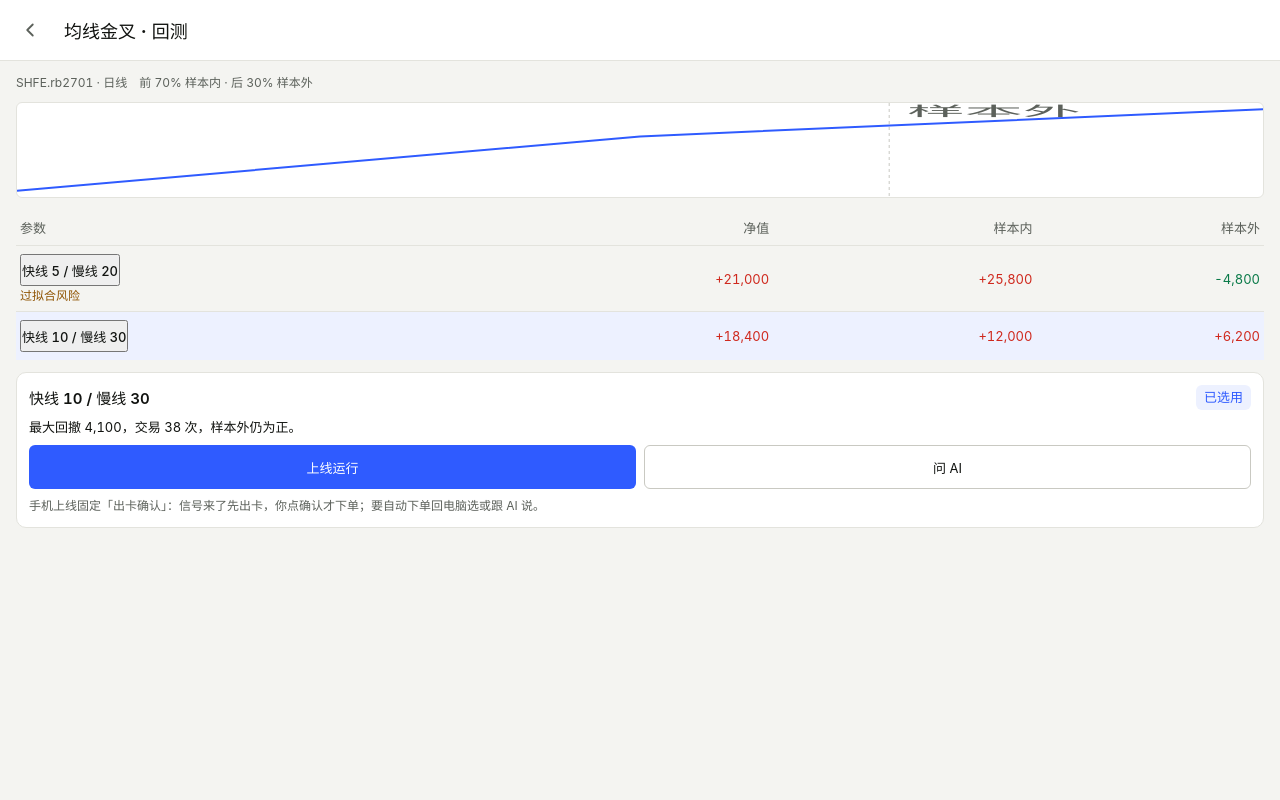
Test case: AI 模拟执行已停止时不上线，写明原因
Step 1. Click the button "上线运行" → click(332, 467), box 29,445 -> 636,489
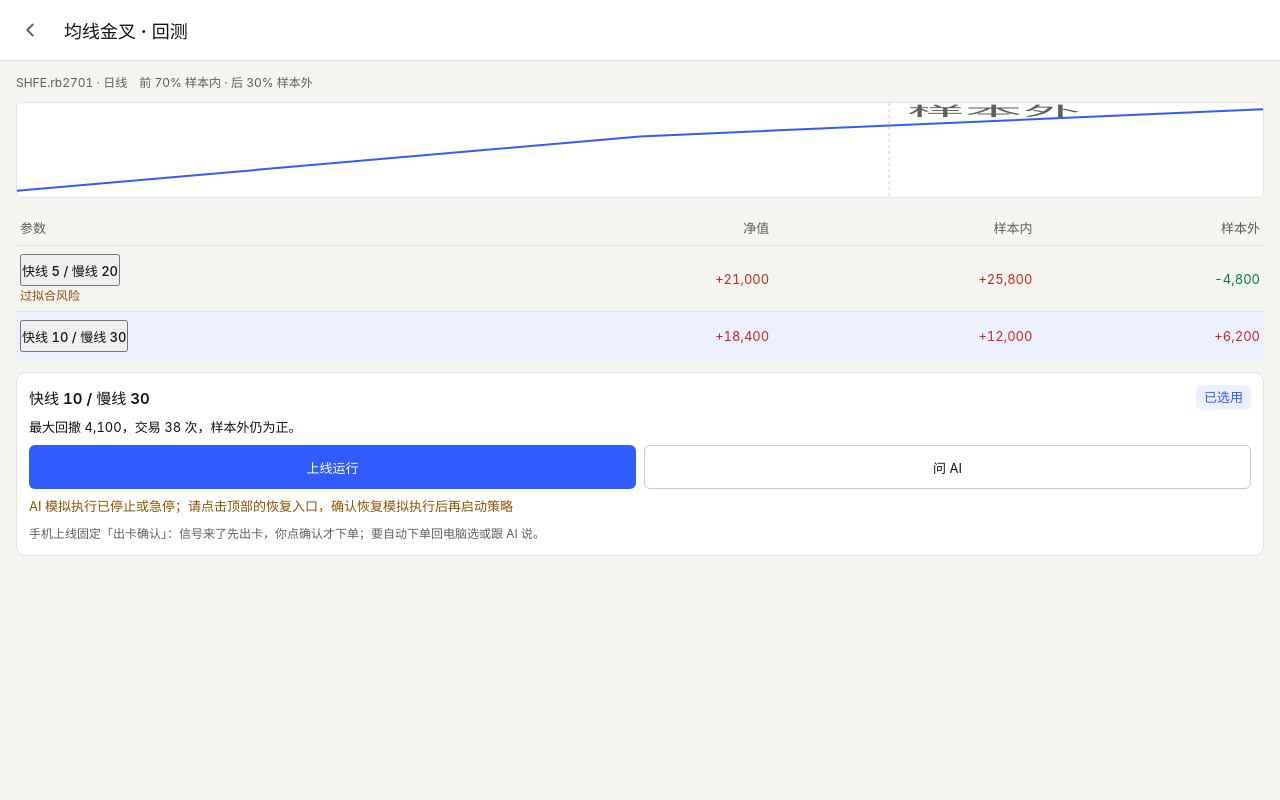
Check: the message shows "AI 模拟执行已停止或急停", box 29,498 -> 513,514
